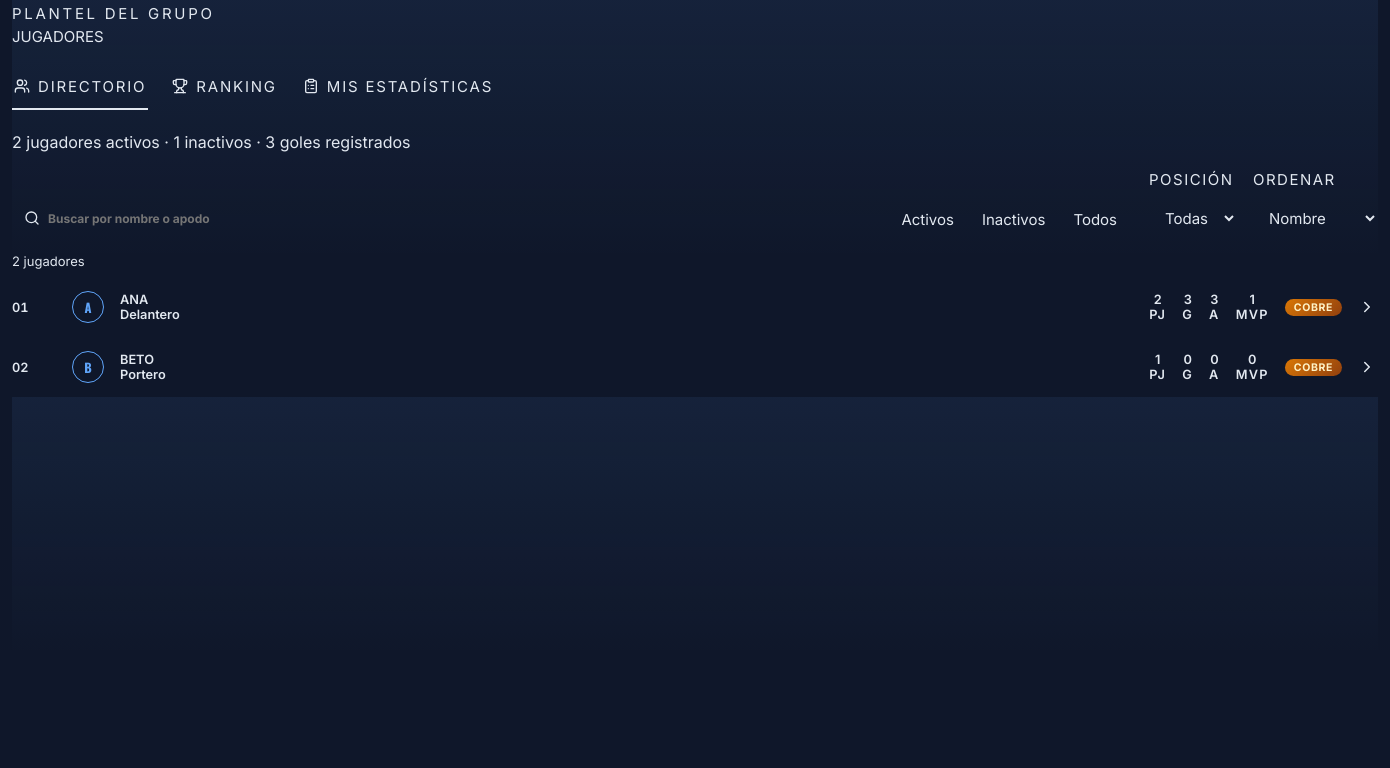
Test: PlayersPage › ranking uses verified stats and shows the podium
What coordinates should you click on to do the following:
click the button "Ranking"
I would click on:
 (225, 87)
Its box is [170,64,279,110].
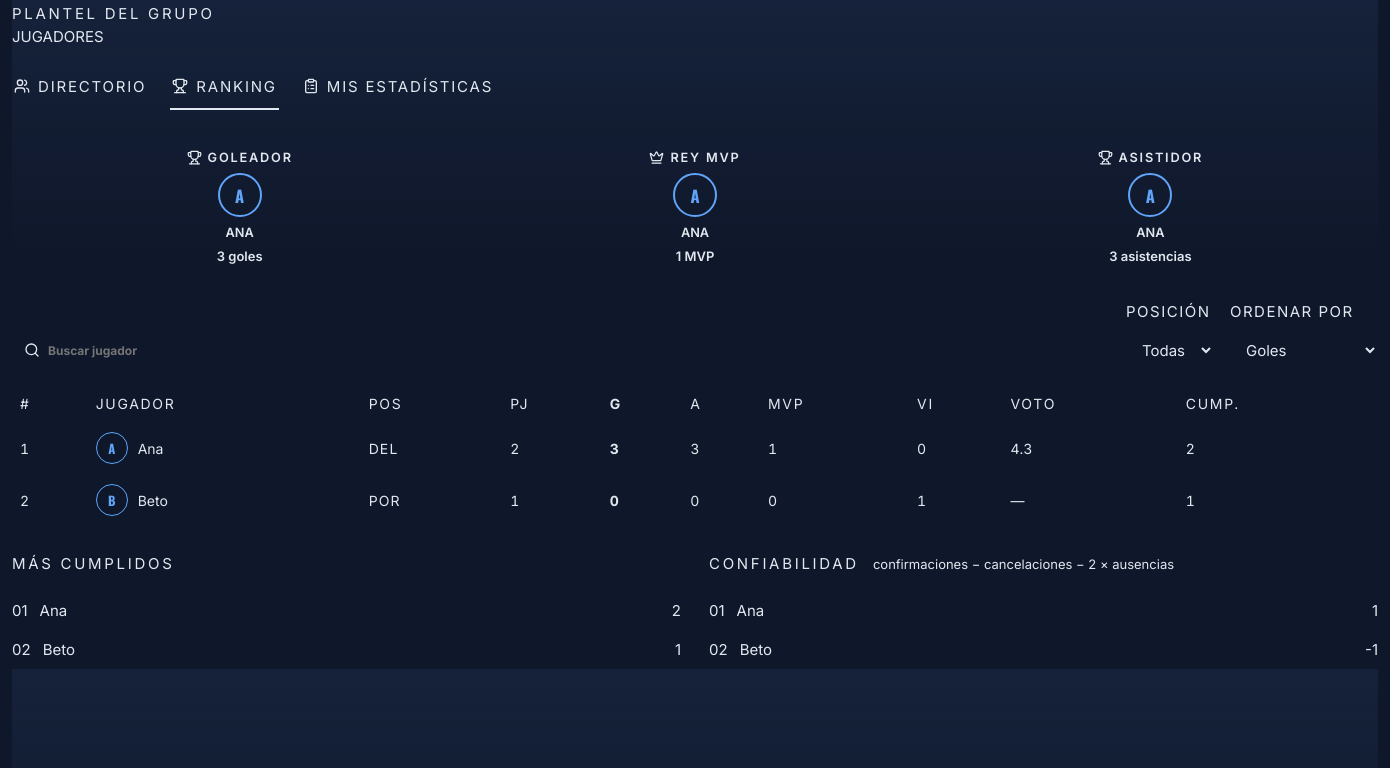
Expected: the button "Goleador A Ana 3 goles" is shown, [12,132,467,282]
